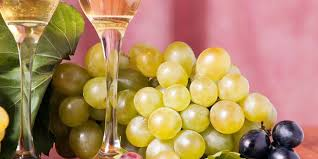Green grapes: (129, 43, 238, 159)
